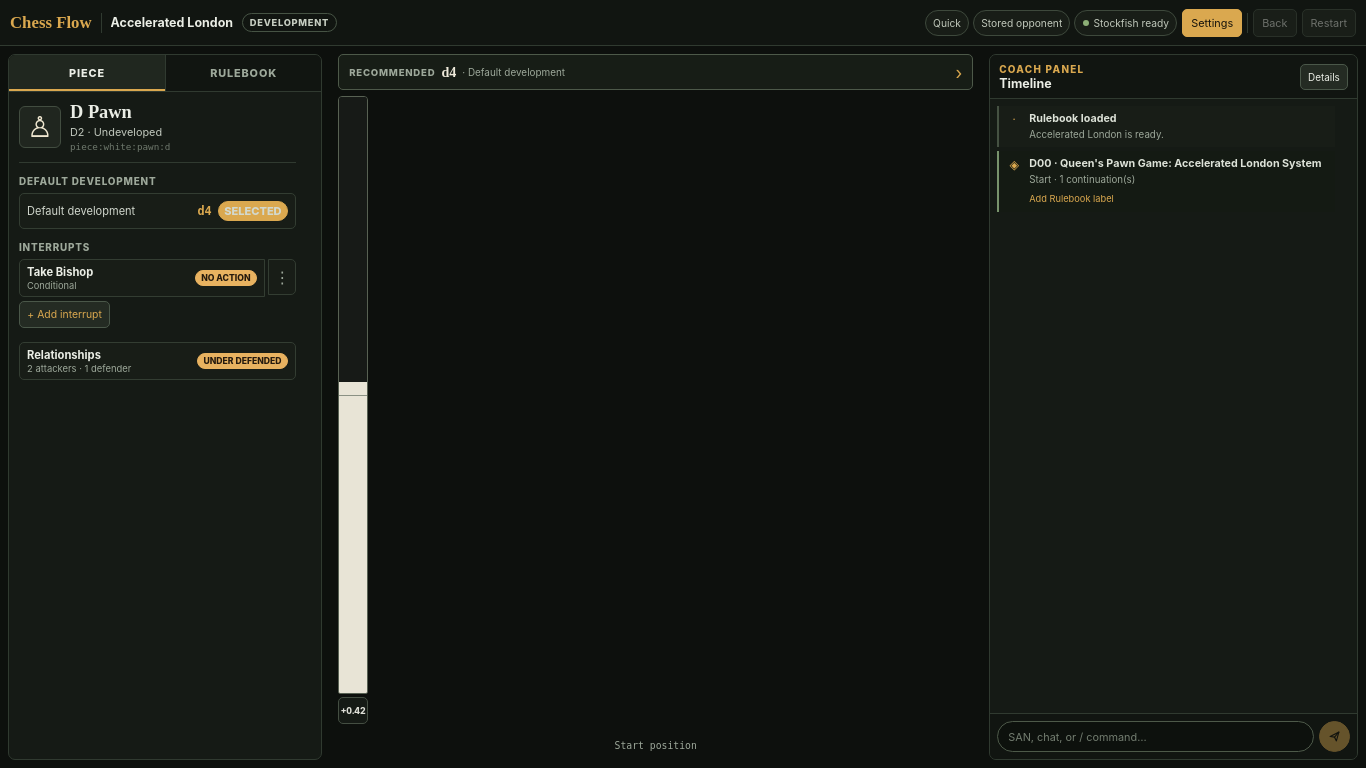
Scenario: compact Development Mode workspace › opens engine diagnostics from the attached evaluation bar
Click the button named "White-perspective score": (353, 710) [338,697,368,724]
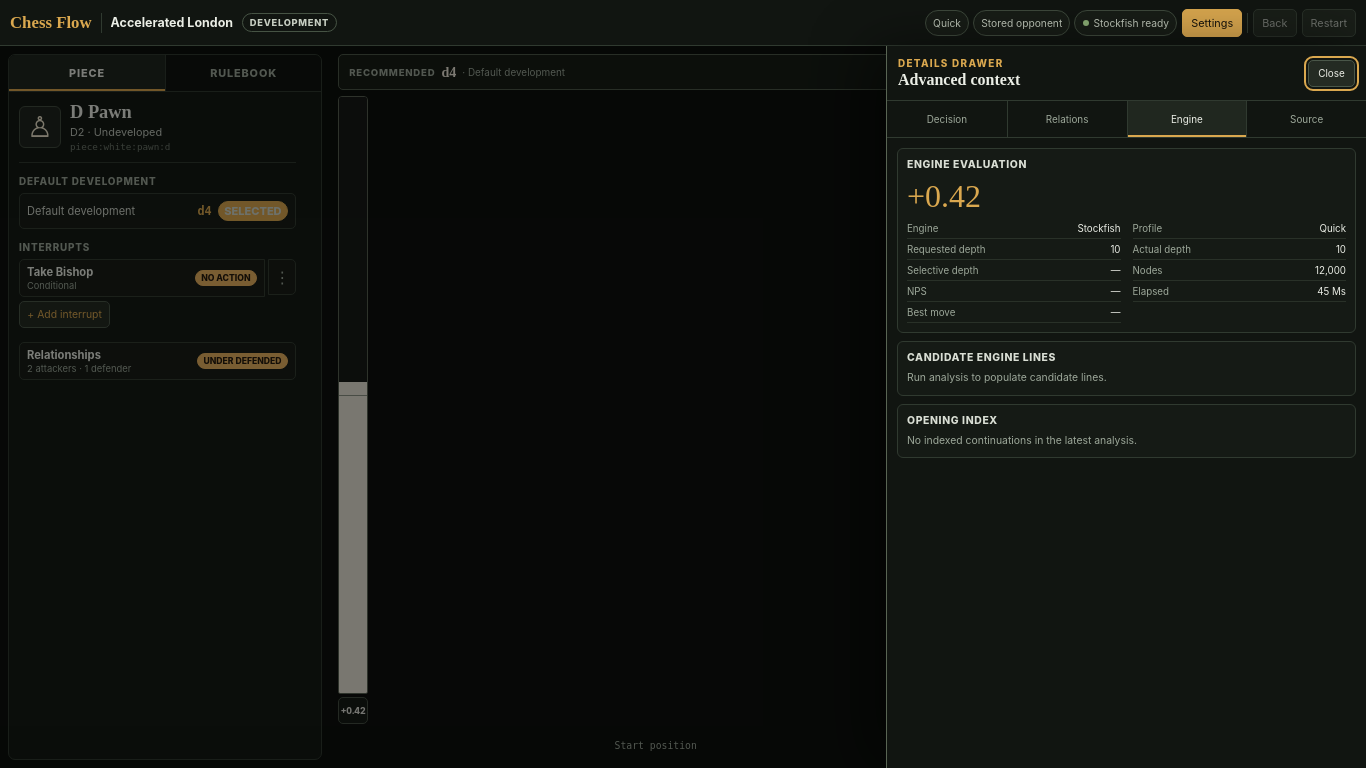
Now the heading "Engine evaluation" is shown, box [907,158,1027,171]
Now the text "12,000" is shown, box [1315,265,1346,276]
Now the text "45 ms" is shown, box [1317,286,1346,297]
